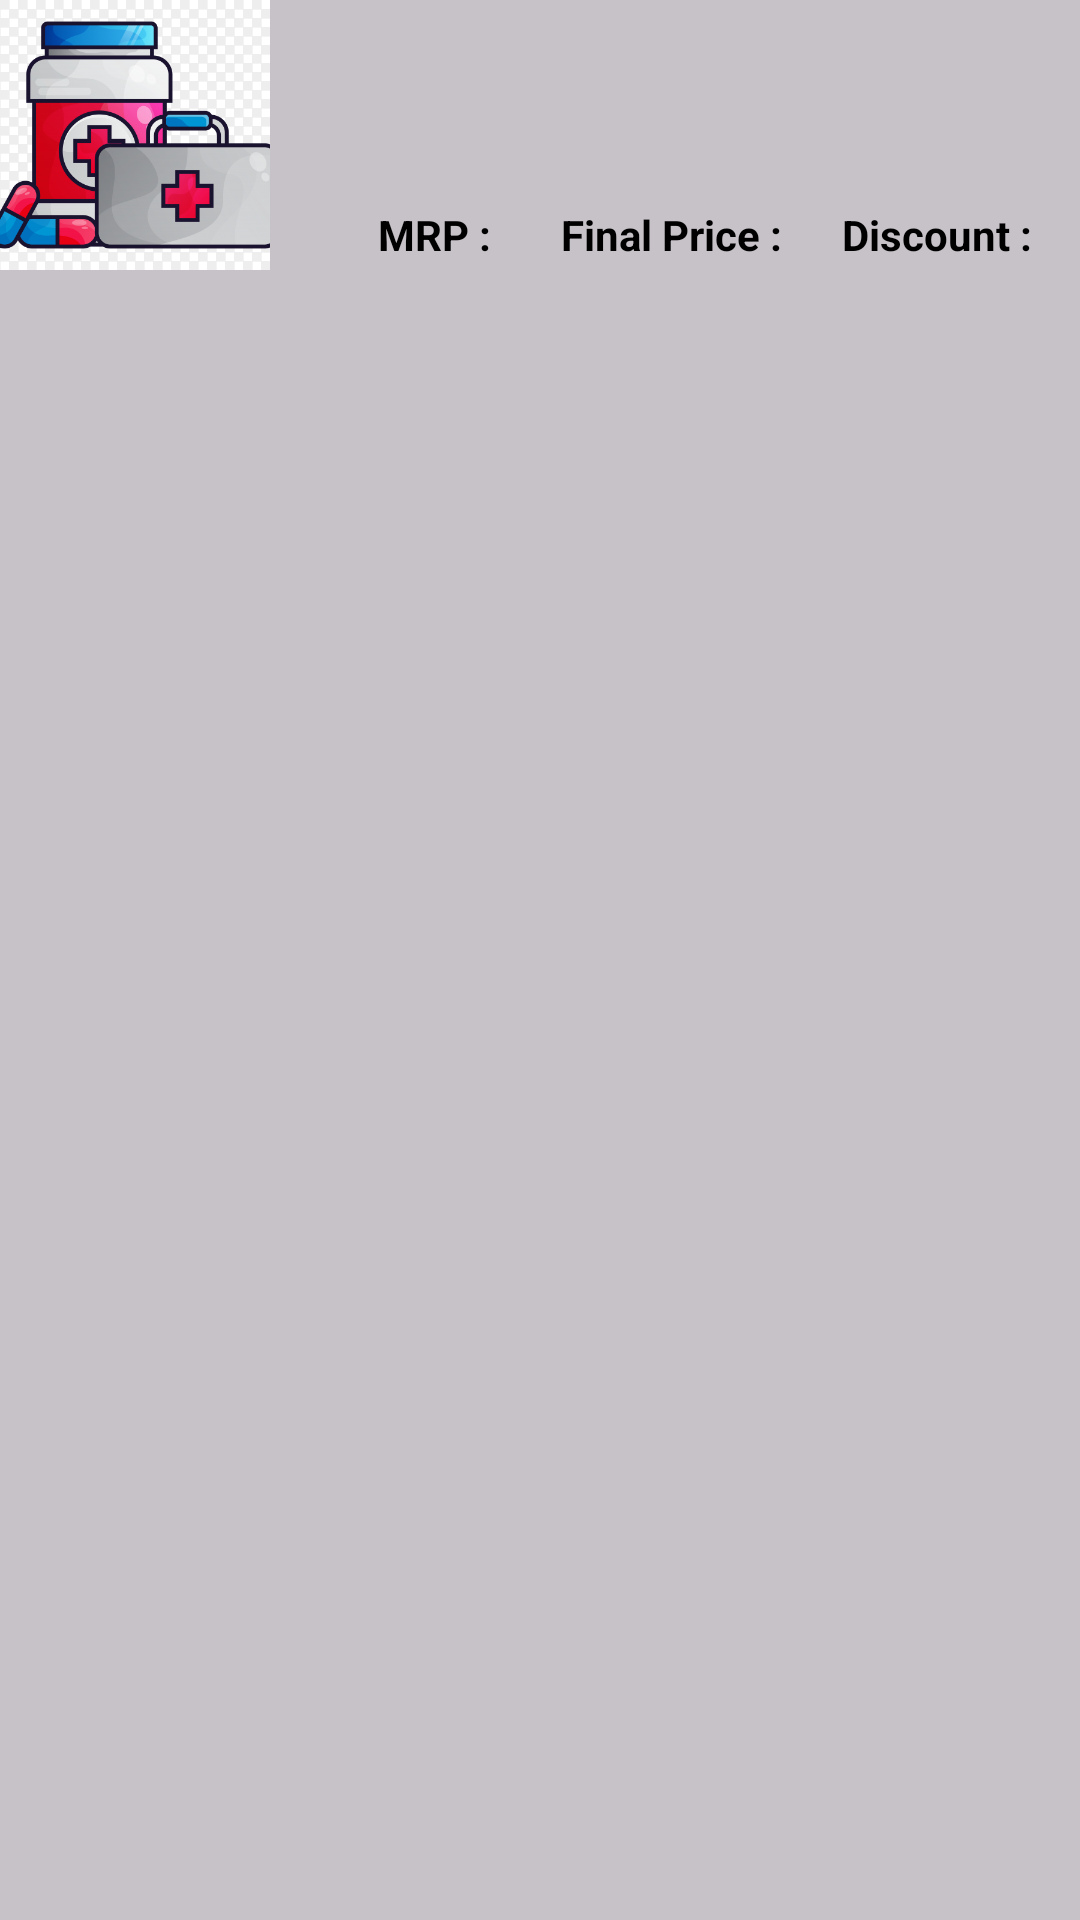

Icon bounding boxes for this 1080px x 1920px phone screenshot, format (x1, y1, x2, y2):
medicine: (0, 0, 270, 270)
